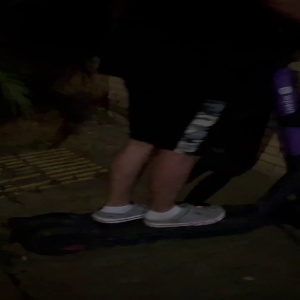human on a scooter: (6, 1, 300, 256)
